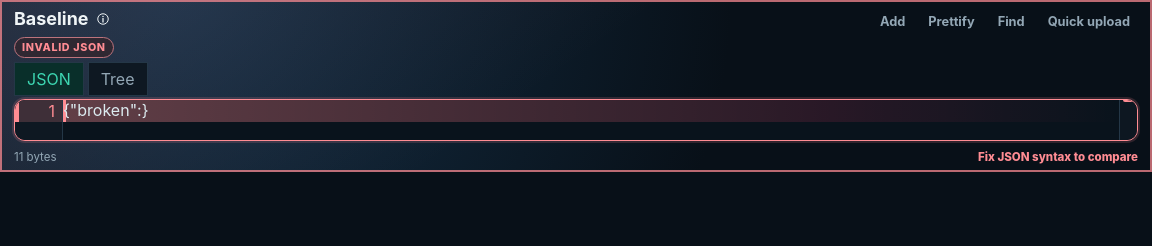
Test: JsonInputPane validation state › highlights the invalid JSON line and panel only in the JSON view
Check: the text "Invalid JSON" is shown, box [14, 37, 114, 58]
Check: the text "Fix JSON syntax to compare" is shown, box [978, 150, 1138, 164]
Click the tab "Tree" at (118,79), box [88, 62, 148, 96]
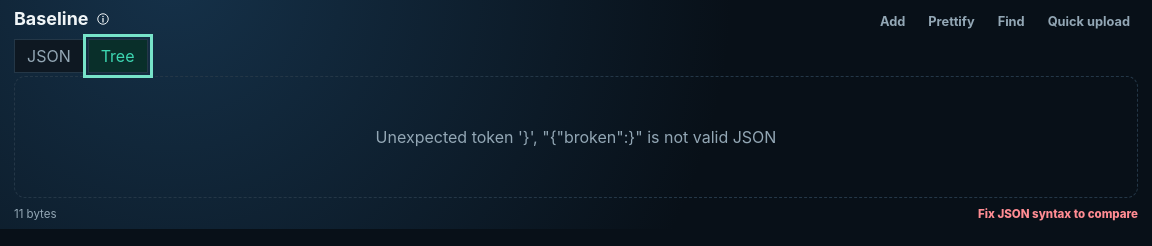
Check: the button with class "line-invalid" is gone
